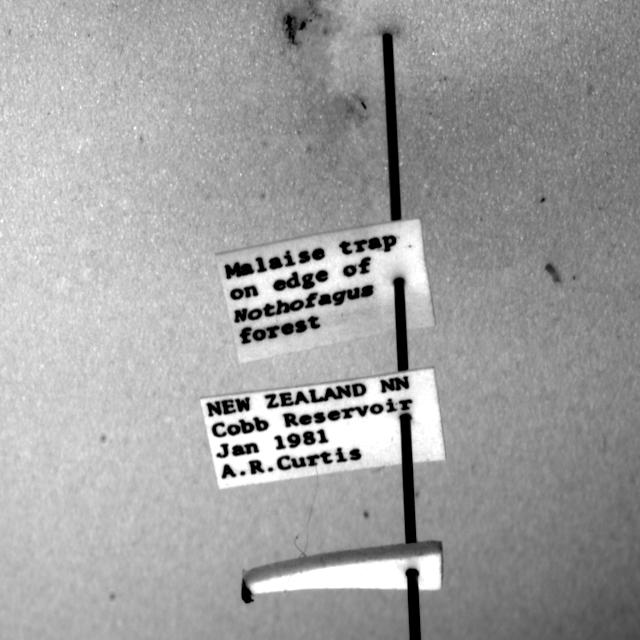typed_label: (218, 219, 435, 362), (201, 368, 445, 489)
